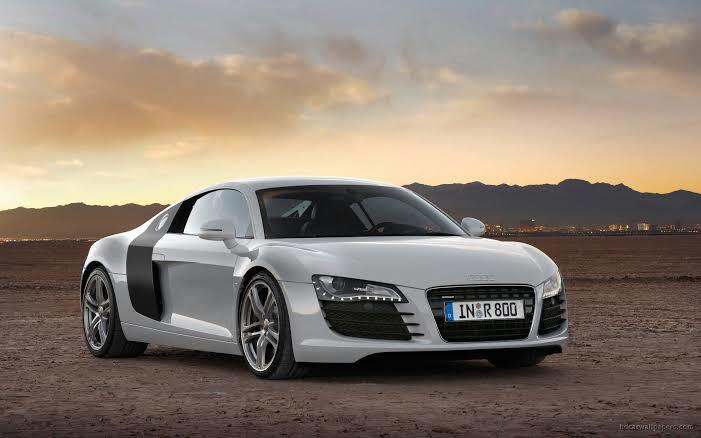audi: (70, 171, 574, 388)
